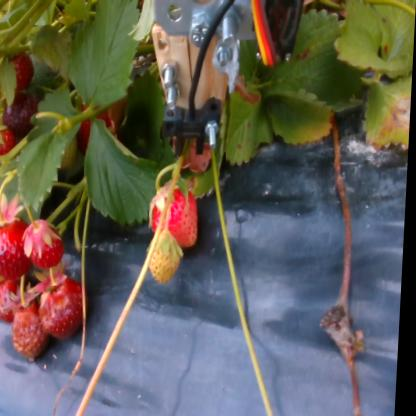ripe: (155, 185, 207, 241), (44, 274, 88, 338), (77, 94, 117, 156), (27, 218, 69, 270), (0, 49, 38, 91), (0, 223, 28, 278), (0, 124, 18, 161)
unripe: (9, 305, 62, 363), (1, 96, 49, 141), (150, 234, 183, 282), (0, 282, 29, 320)
